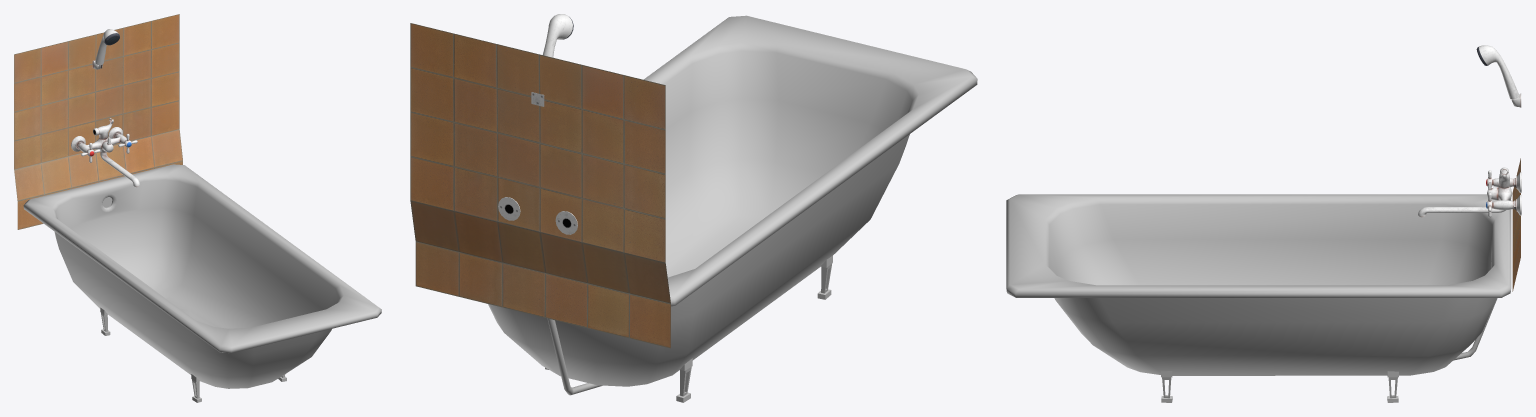
Rendered from bath.fbx.
3 views of the same model, side by side, from view 1: azimuth 30°, elevation 25°; view 2: azimuth 150°, elevation 25°; view 3: azimuth 270°, elevation 25° (orthographic). The views are drawn at different scales.
Parts seen in each view (by area): view 1: bath, wall, shower_faucet_base, shower_head; view 2: bath, wall, shower_faucet_base, shower_head; view 3: bath, shower_faucet_base, shower_head, wall, shower_faucet.
Boxes of the visible parts, left/top/right/bottom form: bath: left=23, top=164, right=381, bottom=402; wall: left=14, top=14, right=182, bottom=229; shower_faucet_base: left=71, top=118, right=126, bottom=152; shower_head: left=95, top=29, right=119, bottom=69; bath: left=488, top=15, right=977, bottom=402; wall: left=410, top=23, right=670, bottom=348; shower_faucet_base: left=498, top=197, right=577, bottom=234; shower_head: left=543, top=14, right=573, bottom=57; bath: left=1006, top=194, right=1511, bottom=402; shower_faucet_base: left=1493, top=167, right=1521, bottom=215; shower_head: left=1476, top=45, right=1519, bottom=99; wall: left=1512, top=158, right=1520, bottom=291; shower_faucet: left=1418, top=207, right=1505, bottom=217.
Size of the model in its own units: 0.9619 by 1.48 by 2.09.
